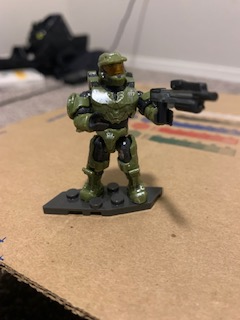chief: (64, 51, 175, 206)
rifle: (148, 78, 220, 123)
spartan: (62, 49, 173, 204)
